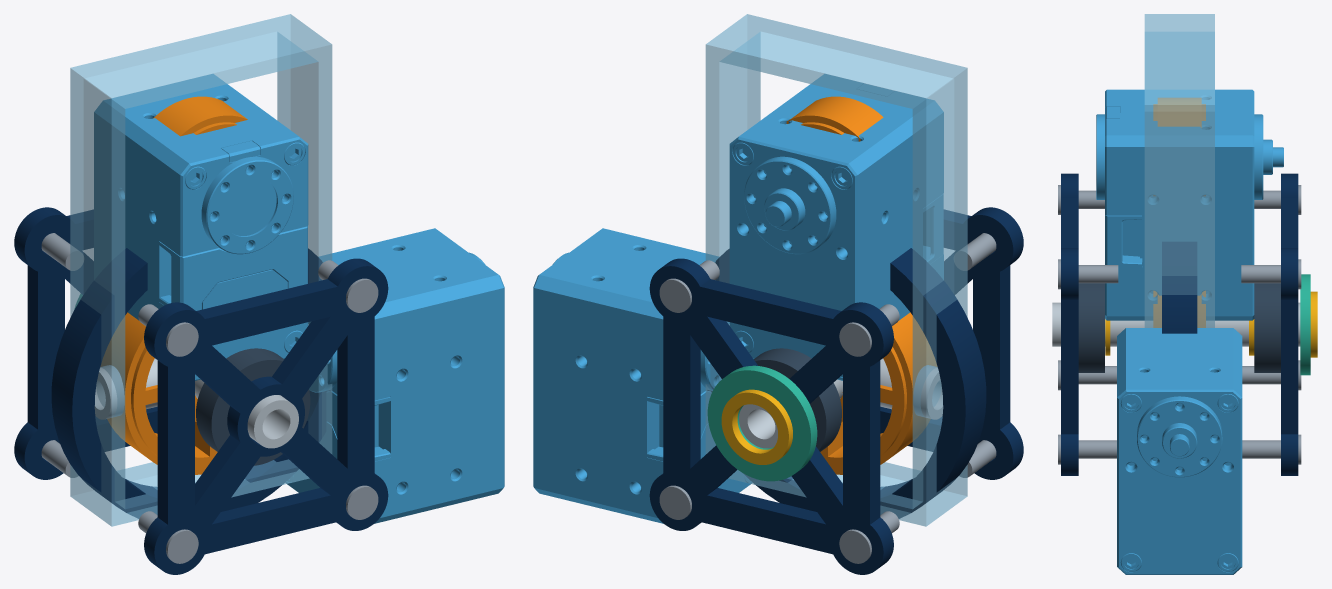
File: JMF-03-SHOULDER-GIMBAL_assembly.glb
The picture shows the model from 3 angles, left to right: view 1: azimuth 30°, elevation 25°; view 2: azimuth 150°, elevation 25°; view 3: azimuth 270°, elevation 25°; orthographic projection. The views are drawn at different scales.
Parts seen in each view (by area): view 1: TRANSMISSION_GUARD, CARRIER_A, ACTUATOR, ROLL_ACTUATOR, GIMBAL_RING, CARRIER_B, TIMING_BELT, BEARING_A, OUTPUT_PULLEY, OUTPUT_SHAFT, ROLL_SHAFT, CARRIER_A_SCREW_21 (+5 smaller); view 2: ACTUATOR, TRANSMISSION_GUARD, CARRIER_B, ROLL_ACTUATOR, GIMBAL_RING, CARRIER_A, OUTPUT_ENCODER_CARRIER, TIMING_BELT, OUTPUT_MAGNET_HUB, BEARING_B, OUTPUT_PULLEY, ROLL_SHAFT (+7 smaller); view 3: ACTUATOR, ROLL_ACTUATOR, TRANSMISSION_GUARD, CARRIER_A, CARRIER_B, GIMBAL_RING, BEARING_A, BEARING_B, OUTPUT_SHAFT, TIMING_BELT, OUTPUT_ENCODER_CARRIER, CARRIER_B_SCREW_12 (+8 smaller).
Boxes of the visible parts, box(x1,y1,x2,y2) form: TRANSMISSION_GUARD: box(70, 14, 332, 526); CARRIER_A: box(144, 258, 388, 574); ACTUATOR: box(94, 74, 308, 380); ROLL_ACTUATOR: box(285, 228, 504, 523); GIMBAL_RING: box(51, 248, 330, 518); CARRIER_B: box(14, 207, 157, 479); TIMING_BELT: box(100, 96, 247, 474); BEARING_A: box(196, 348, 310, 465); OUTPUT_PULLEY: box(131, 347, 217, 469); OUTPUT_SHAFT: box(195, 379, 298, 448); ROLL_SHAFT: box(94, 324, 308, 419); CARRIER_A_SCREW_21: box(138, 511, 198, 563); ACTUATOR: box(729, 74, 943, 380); TRANSMISSION_GUARD: box(705, 14, 967, 526); CARRIER_B: box(649, 258, 893, 574); ROLL_ACTUATOR: box(533, 228, 752, 523); GIMBAL_RING: box(707, 248, 986, 518); CARRIER_A: box(880, 207, 1023, 479); OUTPUT_ENCODER_CARRIER: box(707, 365, 817, 481); TIMING_BELT: box(786, 96, 937, 474); OUTPUT_MAGNET_HUB: box(721, 389, 792, 464); BEARING_B: box(754, 348, 841, 451); OUTPUT_PULLEY: box(820, 347, 906, 469); ROLL_SHAFT: box(729, 324, 943, 419); ACTUATOR: box(1096, 89, 1283, 320); ROLL_ACTUATOR: box(1117, 328, 1242, 574); TRANSMISSION_GUARD: box(1144, 14, 1214, 327); CARRIER_A: box(1061, 173, 1078, 475); CARRIER_B: box(1281, 173, 1298, 475); GIMBAL_RING: box(1162, 242, 1197, 333); BEARING_A: box(1078, 283, 1104, 372); BEARING_B: box(1254, 283, 1280, 372); OUTPUT_SHAFT: box(1052, 302, 1300, 346); TIMING_BELT: box(1158, 98, 1201, 327); OUTPUT_ENCODER_CARRIER: box(1300, 274, 1310, 375); CARRIER_B_SCREW_12: box(1241, 259, 1301, 289).
Size of the model in its own units: 97.19 by 102 by 60.4.
